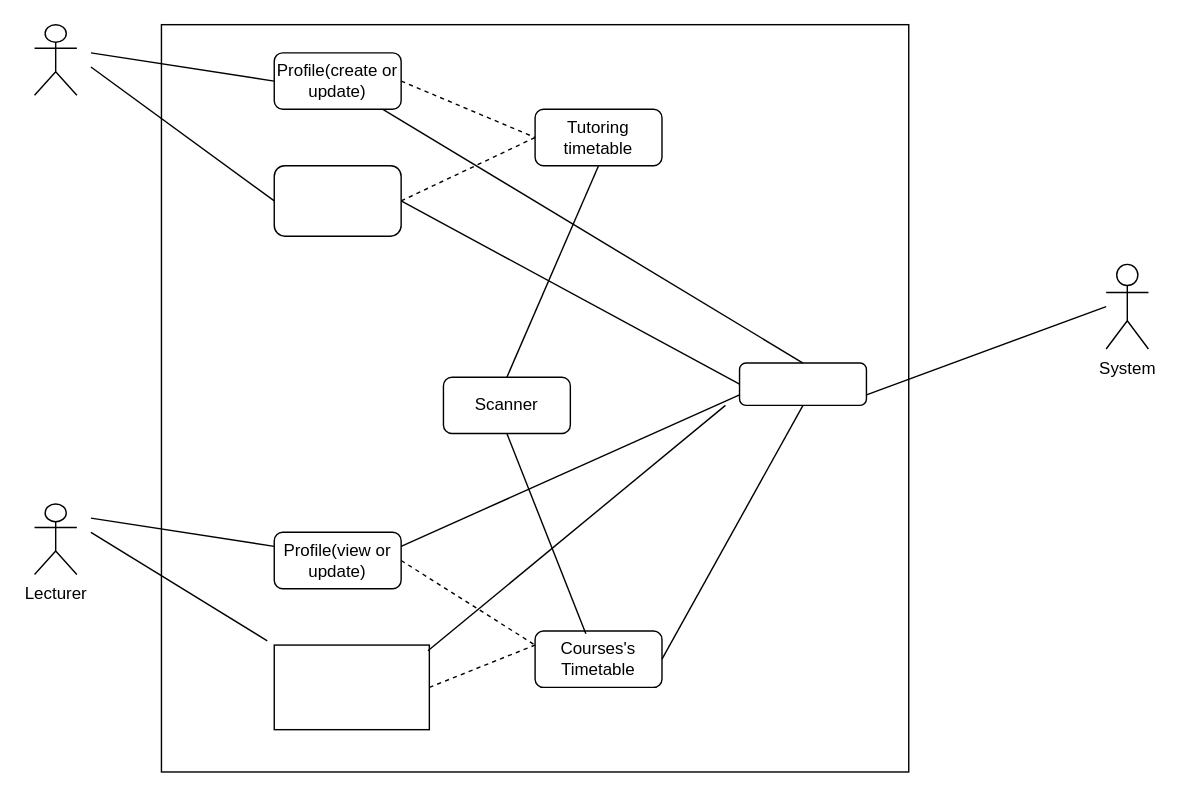
Some shapes in this 1179 by 797 pixel diagram are drawn without their labels. The box of each missing label's shape, as (x1, y1, x2, y2) in pixels:
Courses (add or view addable courses): (273, 644, 429, 730)
Courses(join or view joined courses): (273, 164, 401, 236)
Database: (738, 362, 866, 405)
Tutor: (33, 23, 77, 95)
